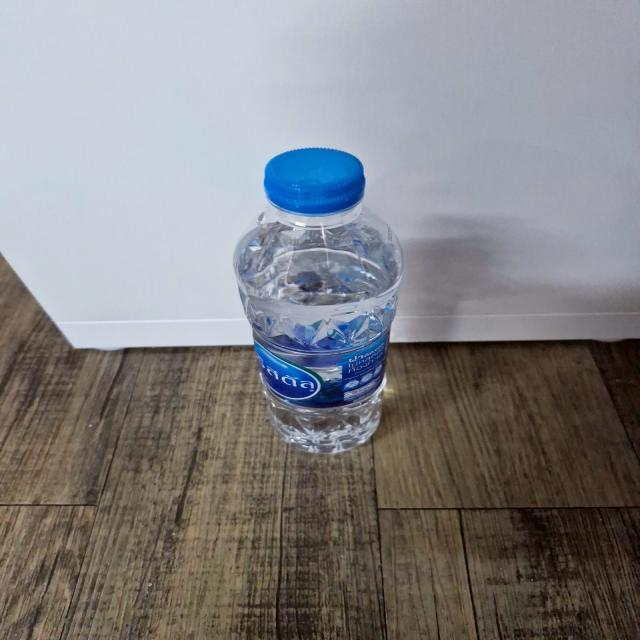can: (224, 140, 414, 461)
